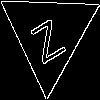Z: (24, 10, 67, 64)
